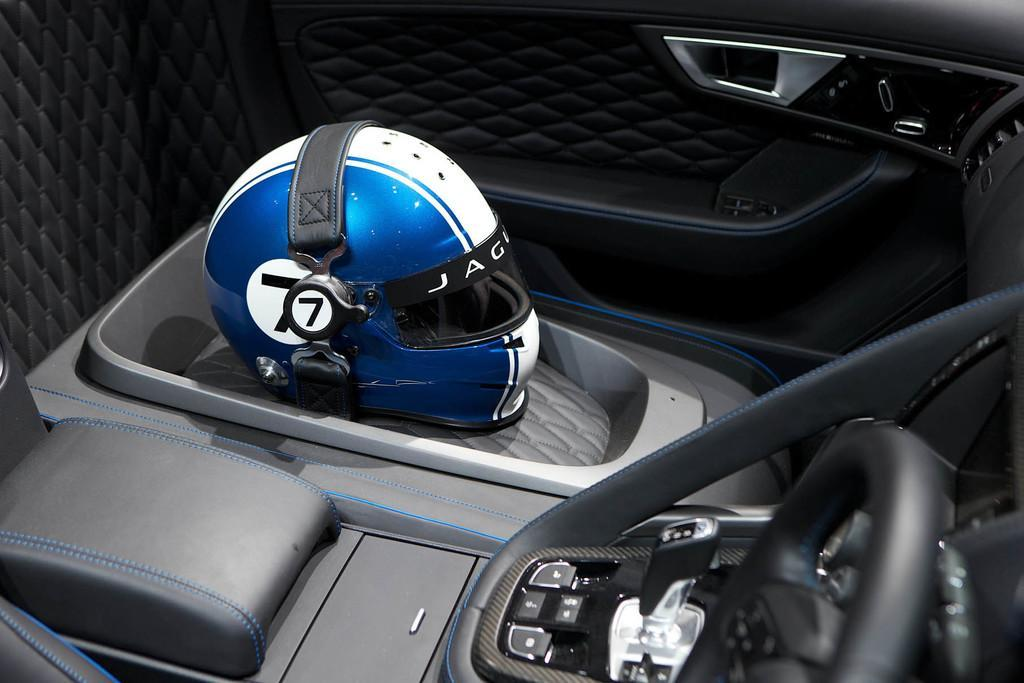helmet: (201, 118, 541, 434)
